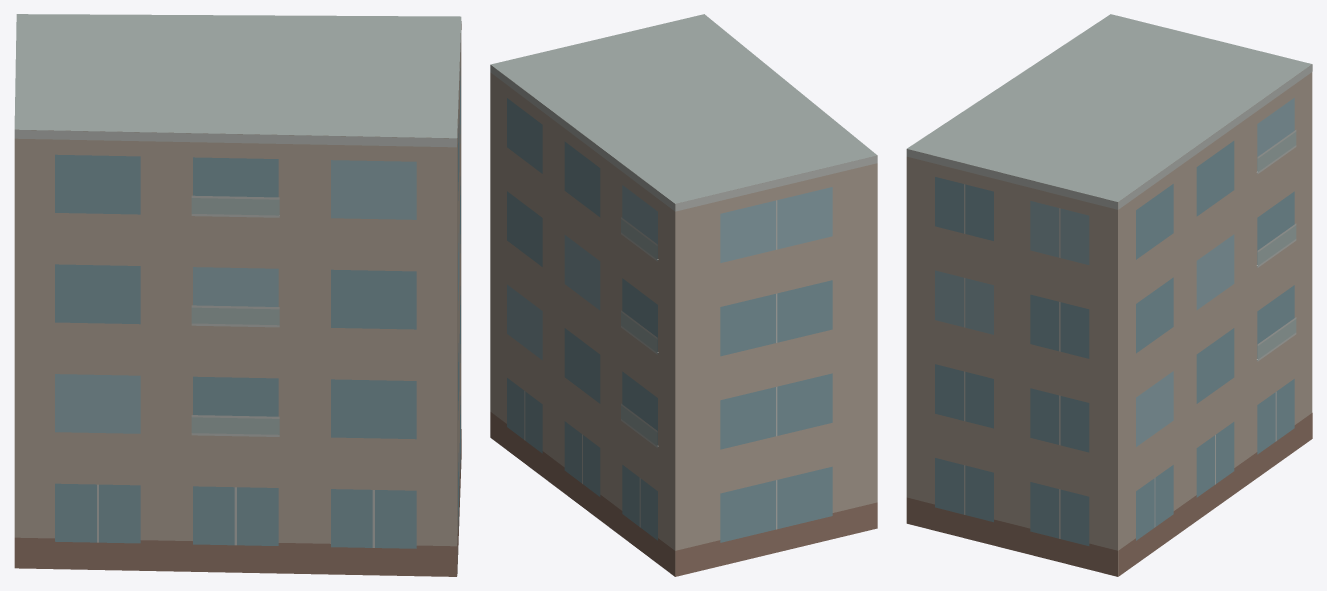
Rendered from survey-upis-32890410.glb.
3 renders of one model, left to right at view 1: azimuth 30°, elevation 25°; view 2: azimuth 150°, elevation 25°; view 3: azimuth 270°, elevation 25°, orthographic. The views are drawn at different scales.
Parts seen in each view (by area): view 1: survey-upis-32890410.tmp; view 2: survey-upis-32890410.tmp; view 3: survey-upis-32890410.tmp.
Boxes of the visible parts, x1,y1,x2,y2 form: survey-upis-32890410.tmp: [14, 14, 461, 576]; survey-upis-32890410.tmp: [490, 14, 877, 576]; survey-upis-32890410.tmp: [906, 14, 1312, 576].
Size of the model in its own units: 12.71 by 11.8 by 11.59.
